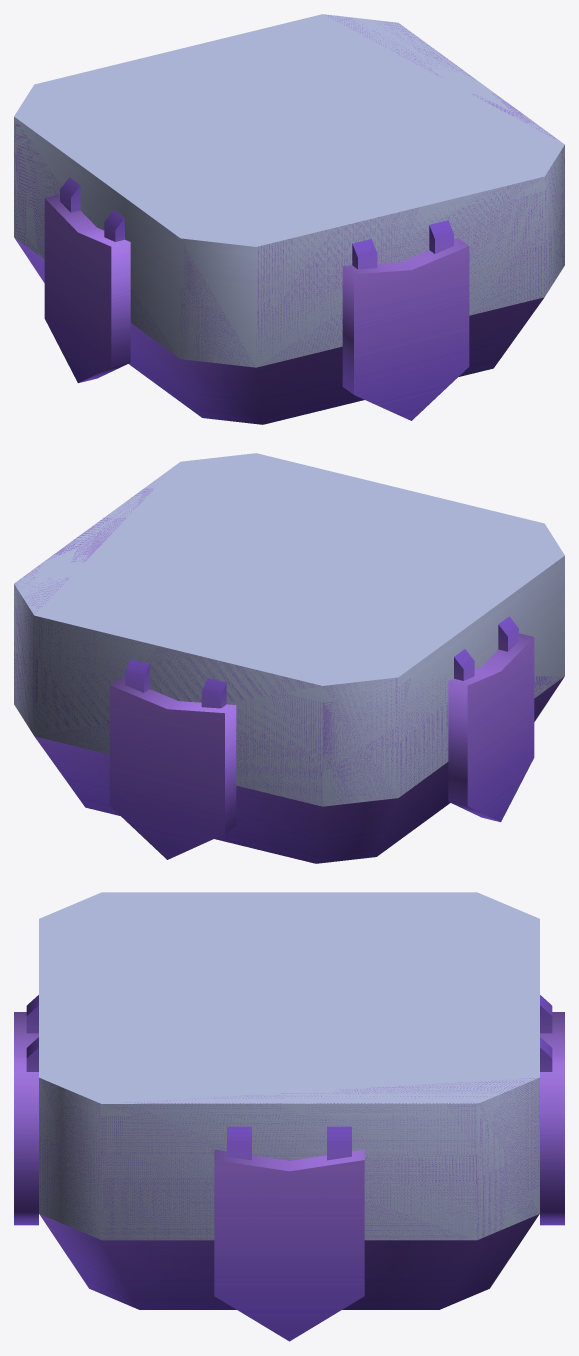
Rendered from kenney-tower-defense-tower-square-middle-a.glb.
The picture shows the model from 3 angles, top to bottom: view 1: azimuth 30°, elevation 25°; view 2: azimuth 150°, elevation 25°; view 3: azimuth 270°, elevation 25°; orthographic projection. The views are drawn at different scales.
Parts seen in each view (by area): view 1: tower-square-middle-a; view 2: tower-square-middle-a; view 3: tower-square-middle-a.
Part boxes in pixels (x1,y1,x2,y2): tower-square-middle-a: (14, 14, 564, 424); tower-square-middle-a: (14, 453, 564, 863); tower-square-middle-a: (14, 892, 564, 1341).
Bounding box in the file's own units: 1.1 × 0.5 × 1.1.
1 material, 1 textured.
